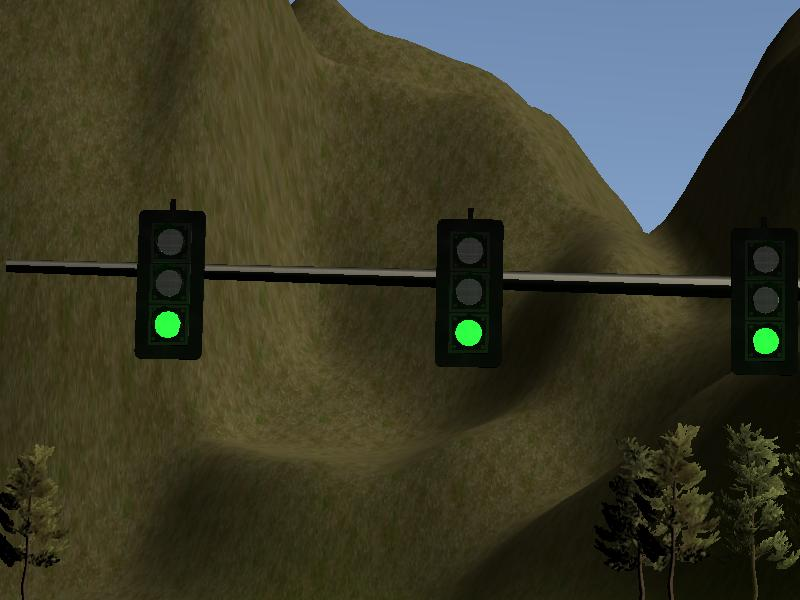green: (137, 211, 203, 362), (434, 215, 500, 366), (734, 224, 800, 375)
